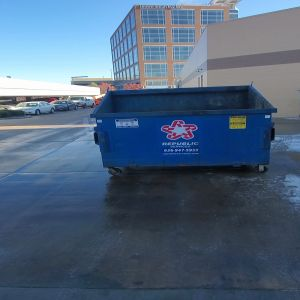Dumpster: (93, 84, 278, 179)
